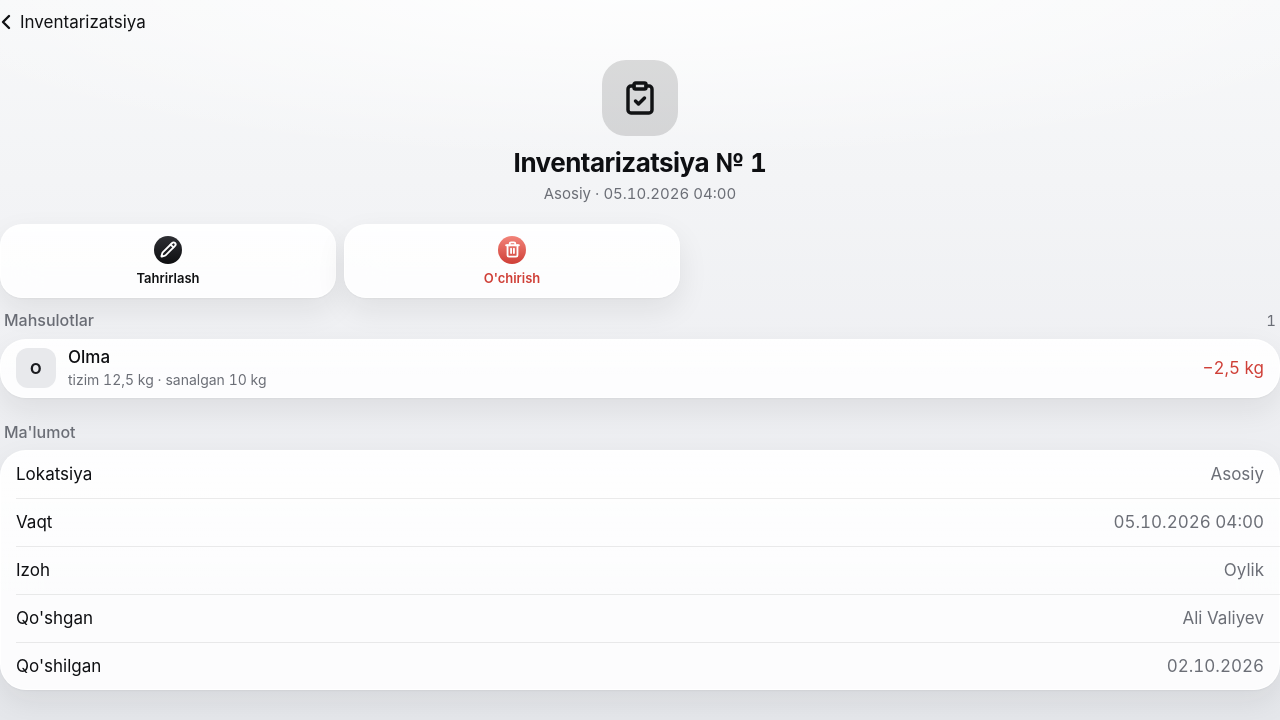
Scenario: deleting the inventory takes its differences out of the stock and leads to the list
Click the button "O'chirish" at (512, 261), box left=344, top=224, right=680, bottom=298
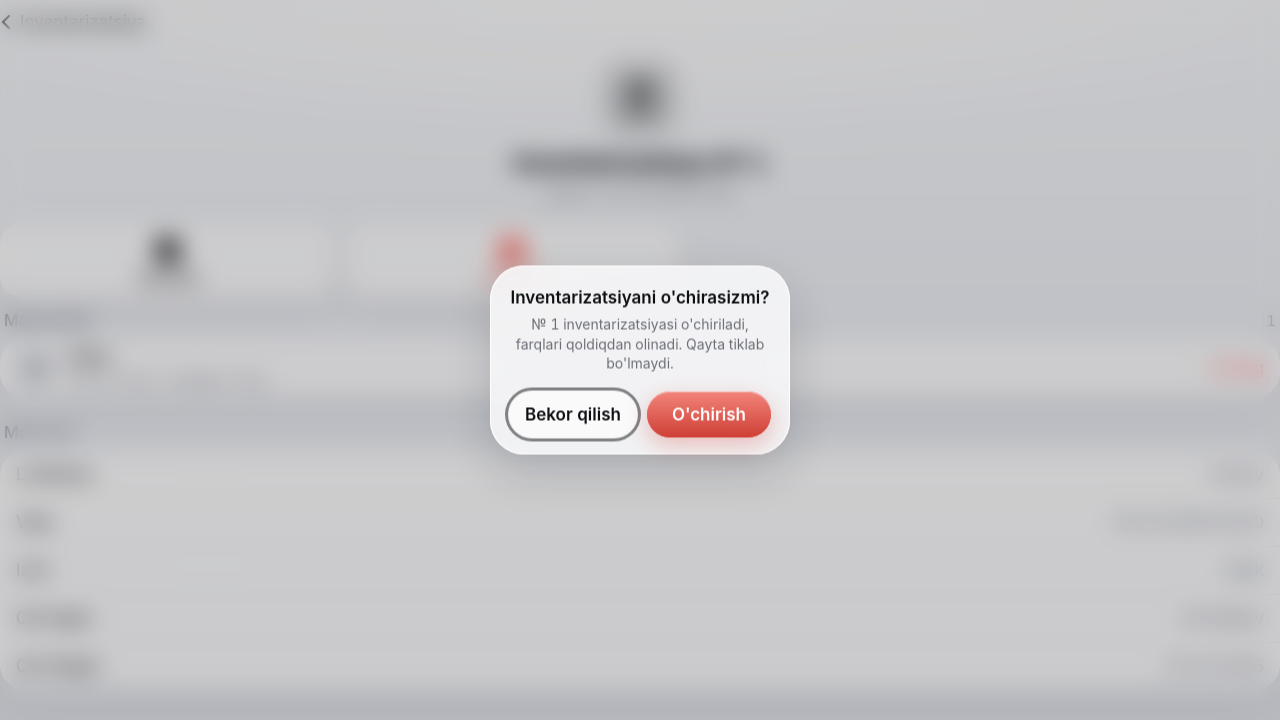
Now the text "№ 1 inventarizatsiyasi o'chiriladi, farqlari qoldiqdan olinadi. Qayta tiklab bo'lmaydi." is shown, box left=508, top=315, right=772, bottom=373
Click the button "O'chirish" at (709, 414), box left=646, top=390, right=772, bottom=438
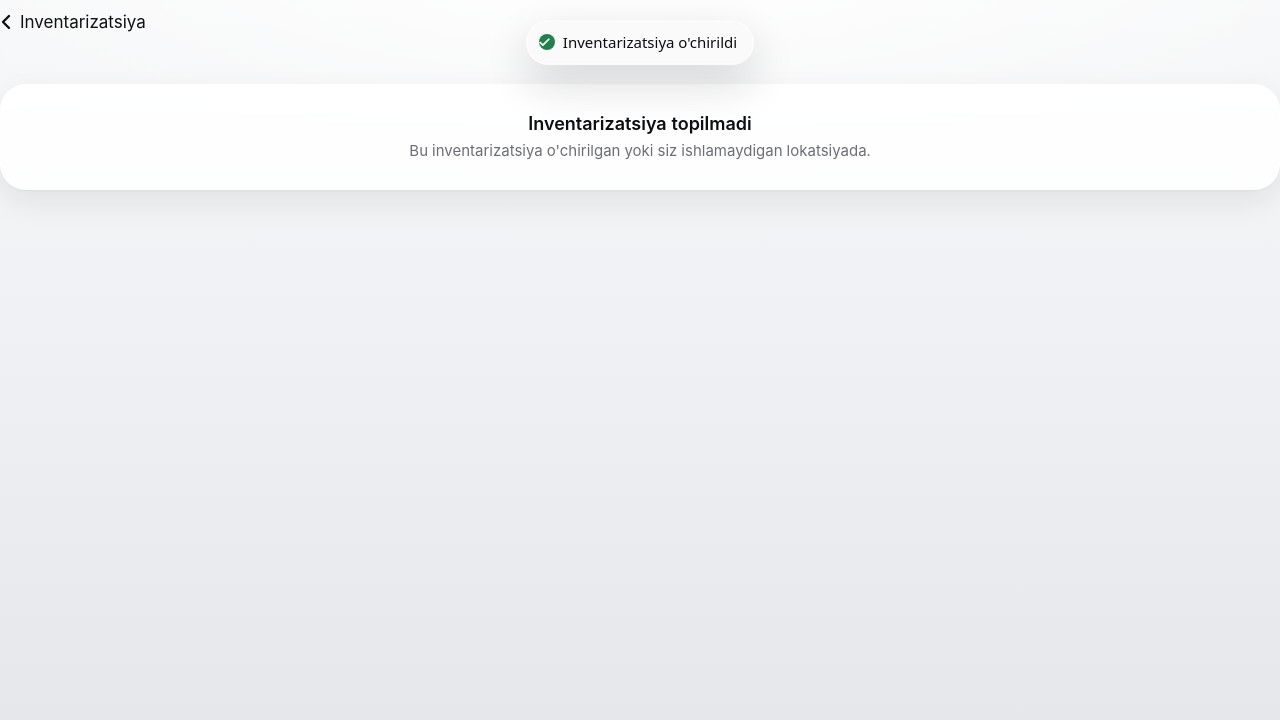
Now the text "Inventarizatsiya o'chirildi" is shown, box left=563, top=31, right=737, bottom=54
